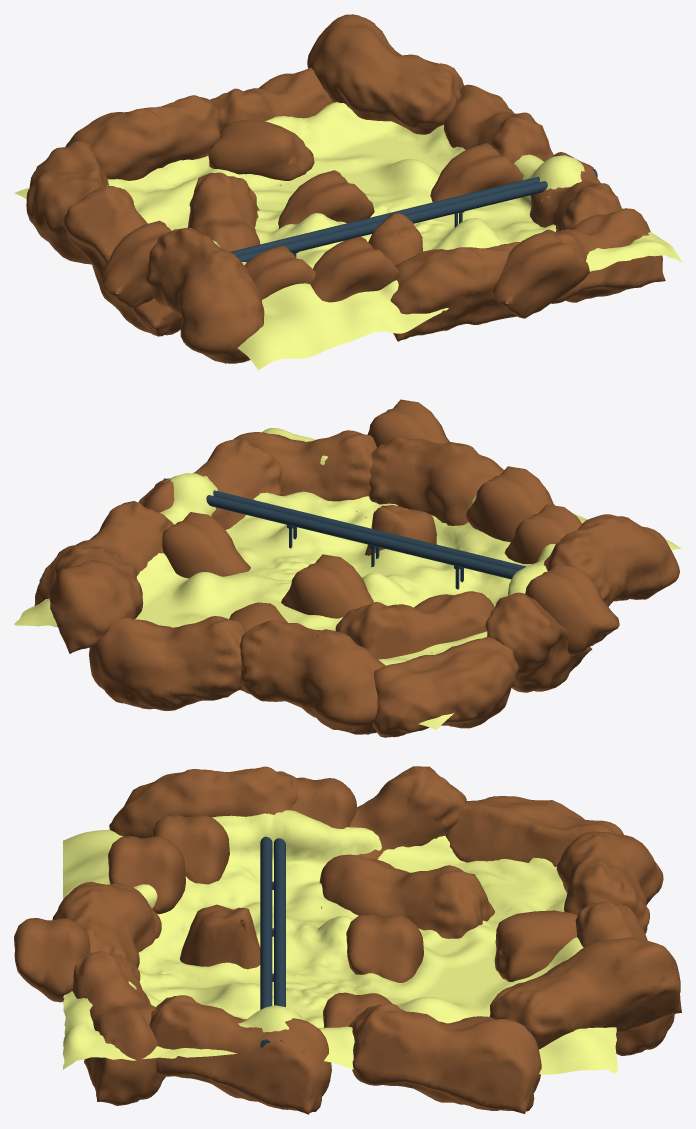
Rendered from Landscape.glb.
3 renders of one model, top to bottom at view 1: azimuth 30°, elevation 25°; view 2: azimuth 150°, elevation 25°; view 3: azimuth 270°, elevation 25°, orthographic. The views are drawn at different scales.
Parts seen in each view (by area): view 1: ground-col, rock-col, rock-col.007, rock-col.011, rock-col.005, rock-col.009, rock-col.010, rock-col.003, rock-col.004, rock-col.001, rock-col.015, rock-col.017 (+10 smaller); view 2: ground-col, rock-col.018, rock-col.011, rock-col.010, rock-col.005, rock-col.007, rock-col, rock-col.017, rock-col.003, rock-col.009, rock-col.002, rock-col.008 (+10 smaller); view 3: ground-col, rock-col.001, rock-col.002, rock-col, rock-col.017, rock-col.003, rock-col.007, rock-col.010, rock-col.011, rock-col.009, rock-col.005, rock-col.004 (+10 smaller).
Boxes of the visible parts, x1,y1,x2,y2 form: ground-col: [14, 102, 681, 370]; rock-col: [307, 14, 463, 134]; rock-col.007: [145, 227, 264, 363]; rock-col.011: [65, 95, 220, 180]; rock-col.005: [390, 242, 520, 341]; rock-col.009: [64, 186, 181, 336]; rock-col.010: [26, 141, 109, 264]; rock-col.003: [521, 208, 665, 303]; rock-col.004: [493, 230, 589, 318]; rock-col.001: [444, 84, 553, 163]; rock-col.015: [208, 119, 314, 180]; rock-col.017: [188, 172, 260, 251]; ground-col: [14, 428, 681, 729]; rock-col.018: [89, 616, 246, 710]; rock-col.011: [239, 620, 385, 734]; rock-col.010: [372, 637, 519, 737]; rock-col.005: [369, 437, 503, 525]; rock-col.007: [543, 514, 679, 606]; rock-col: [48, 546, 143, 653]; rock-col.017: [335, 591, 494, 659]; rock-col.003: [234, 430, 376, 501]; rock-col.009: [485, 592, 592, 692]; rock-col.002: [139, 438, 282, 529]; rock-col.008: [525, 563, 619, 655]; ground-col: [63, 810, 617, 1074]; rock-col.001: [349, 1003, 541, 1113]; rock-col.002: [149, 995, 331, 1114]; rock-col: [489, 937, 681, 1049]; rock-col.017: [319, 854, 494, 938]; rock-col.003: [63, 951, 165, 1105]; rock-col.007: [109, 766, 298, 838]; rock-col.010: [445, 796, 623, 866]; rock-col.011: [556, 831, 663, 933]; rock-col.009: [349, 766, 466, 859]; rock-col.005: [52, 881, 161, 980]; rock-col.004: [14, 918, 90, 1002].
Size of the model in its own units: 129 by 33.07 by 134.
